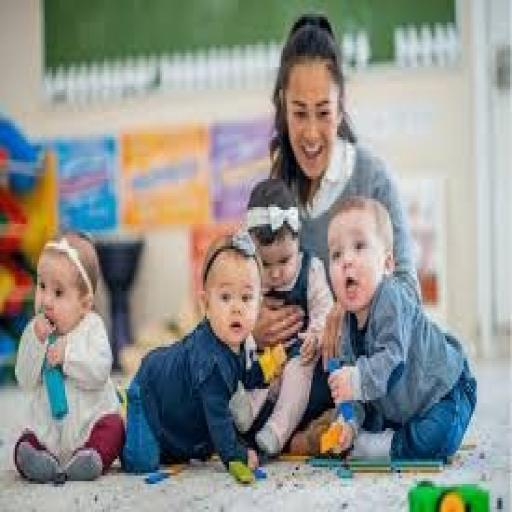baby: (122, 230, 284, 475), (328, 196, 476, 461), (14, 233, 124, 484), (246, 180, 333, 456)
